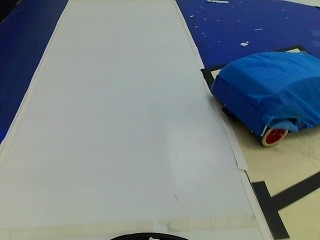car: (212, 51, 318, 147)
